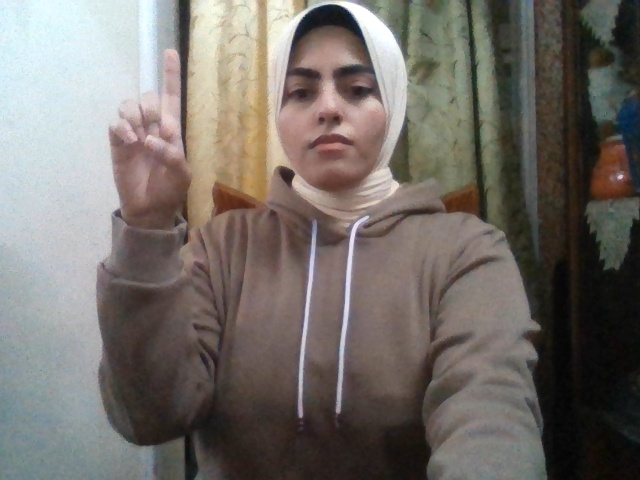D: (109, 49, 191, 216)
